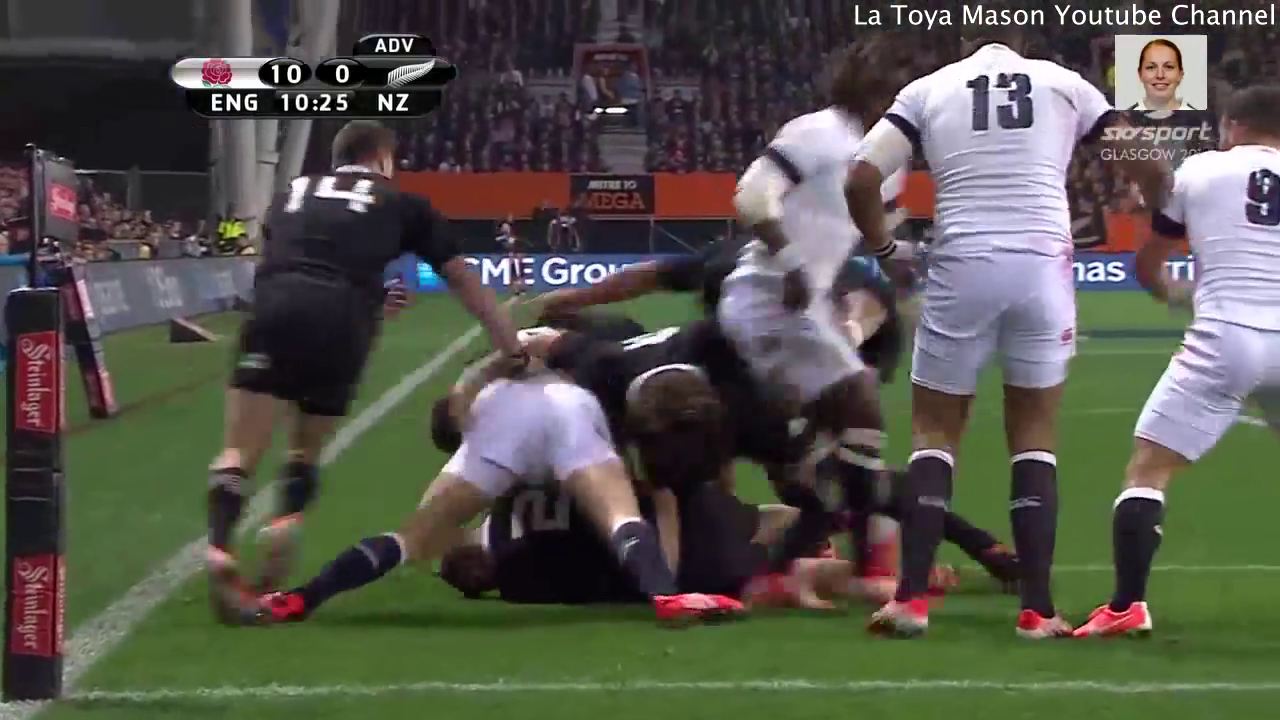player: (865, 40, 1101, 639), (186, 122, 445, 599), (1077, 75, 1280, 636), (246, 384, 693, 614)
